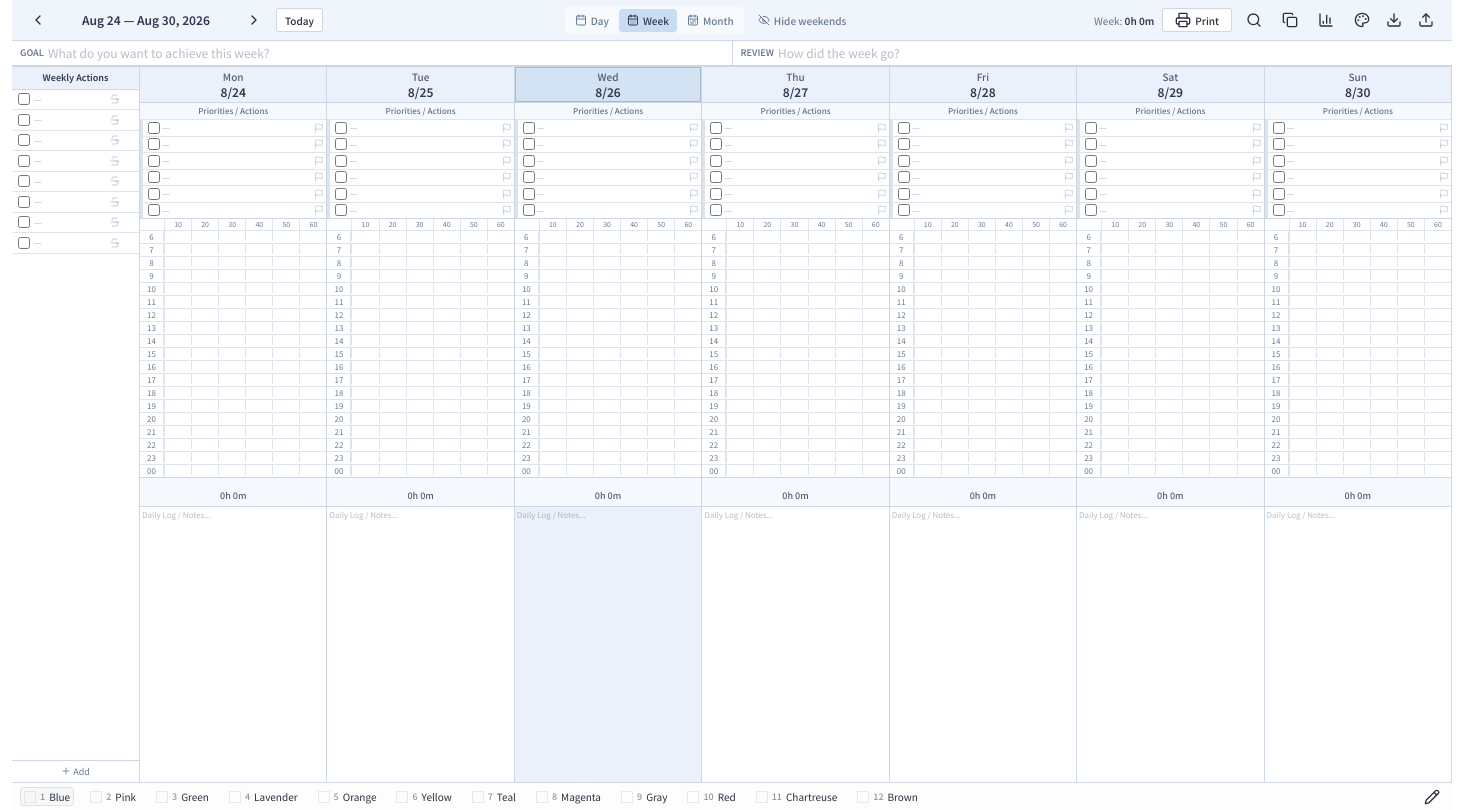
Test: getting back to today › returns to the current month in the month view
Click the button "Month": (710,20) [679, 8, 742, 32]
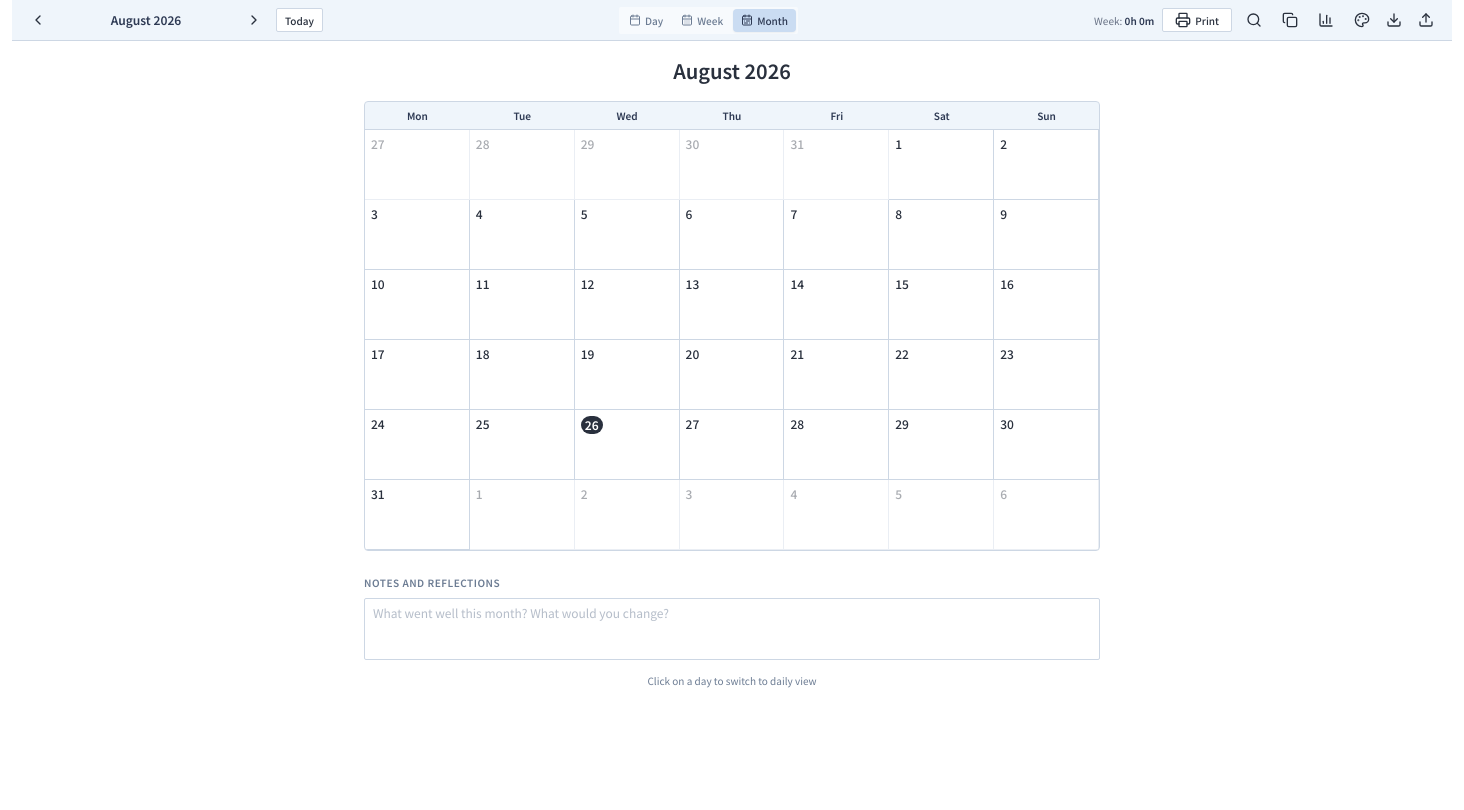
Click the button named "Previous month": (38,20) [24, 6, 52, 34]
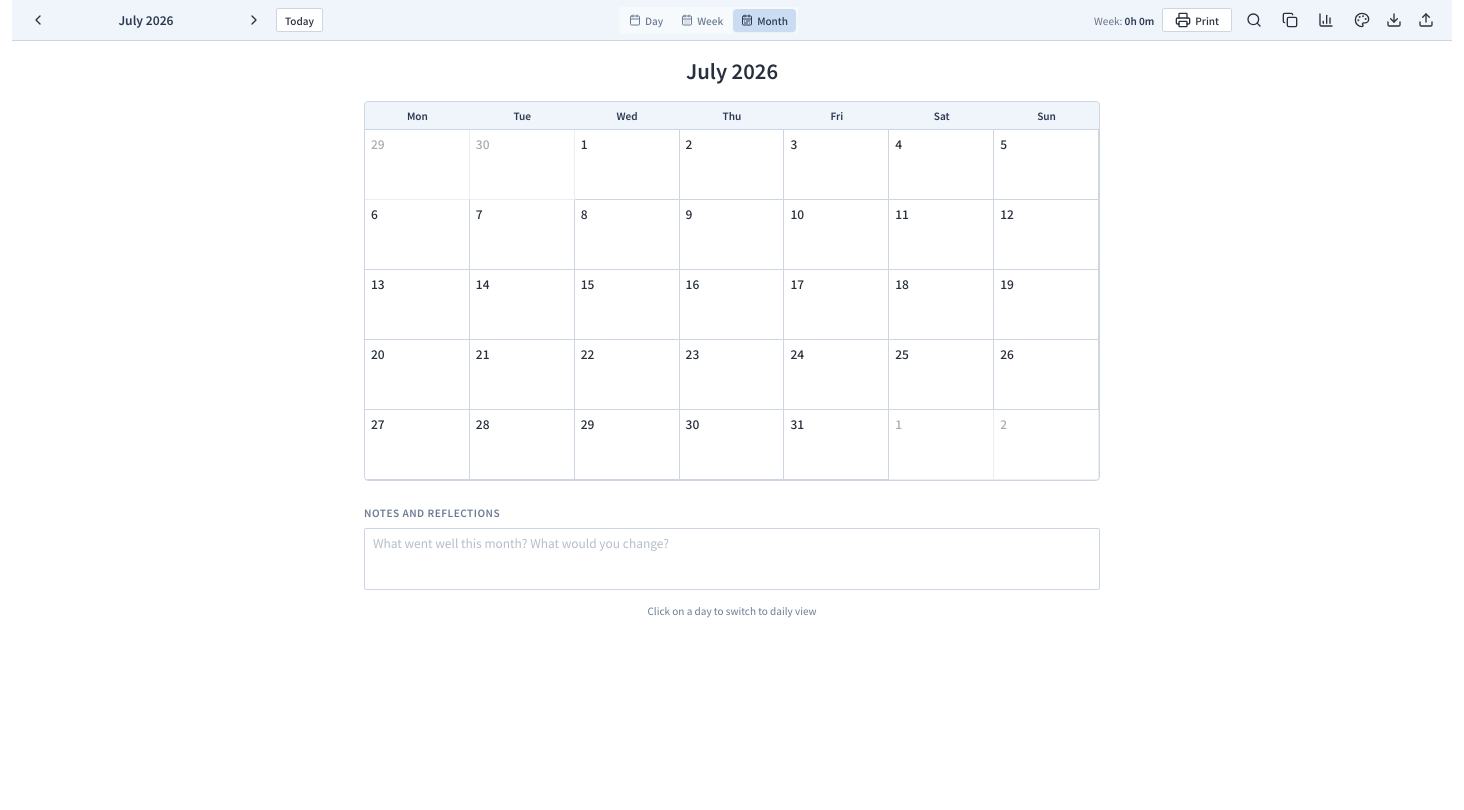
Click the button named "Previous month": (38,20) [24, 6, 52, 34]
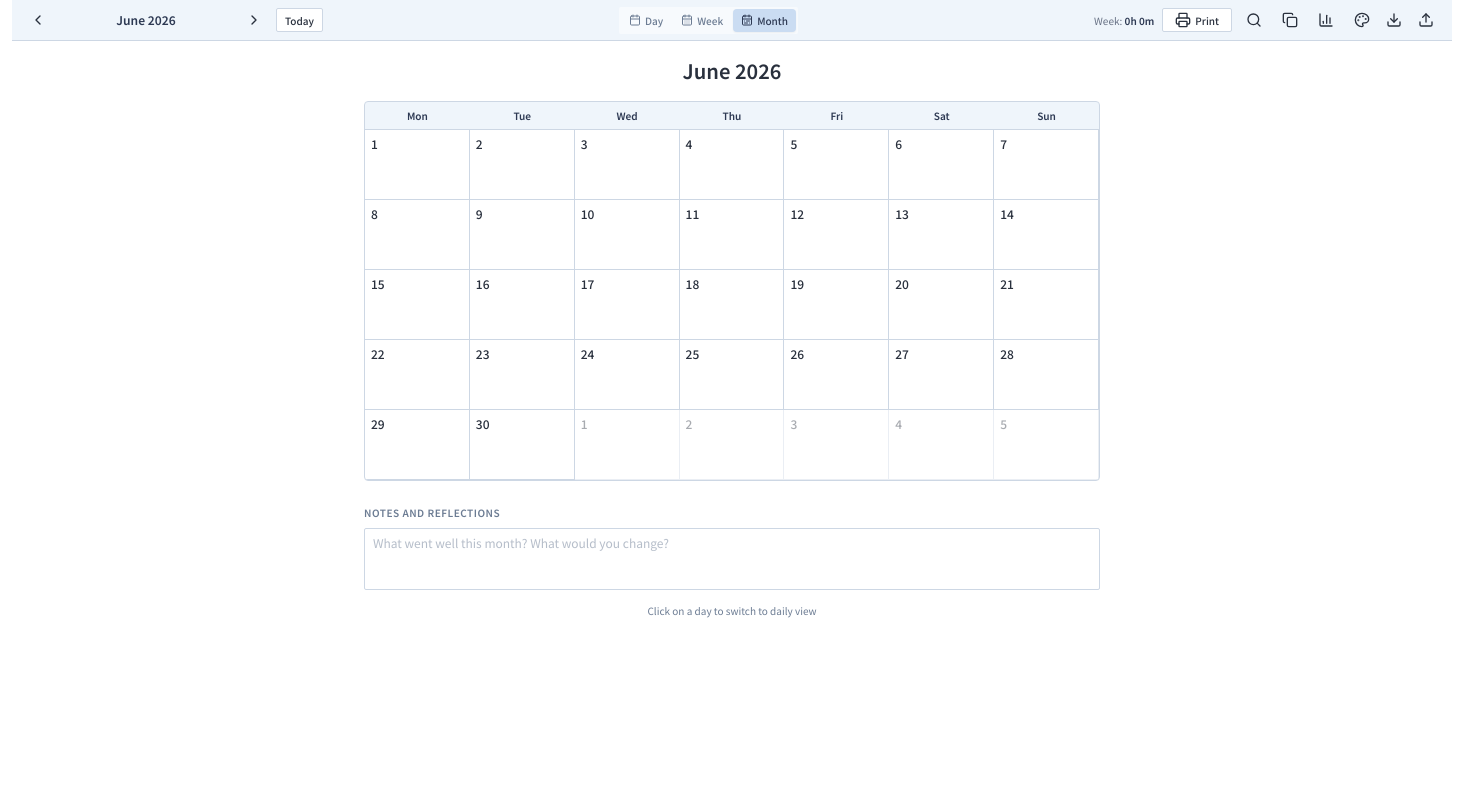
Click the button named "Previous month": (38,20) [24, 6, 52, 34]
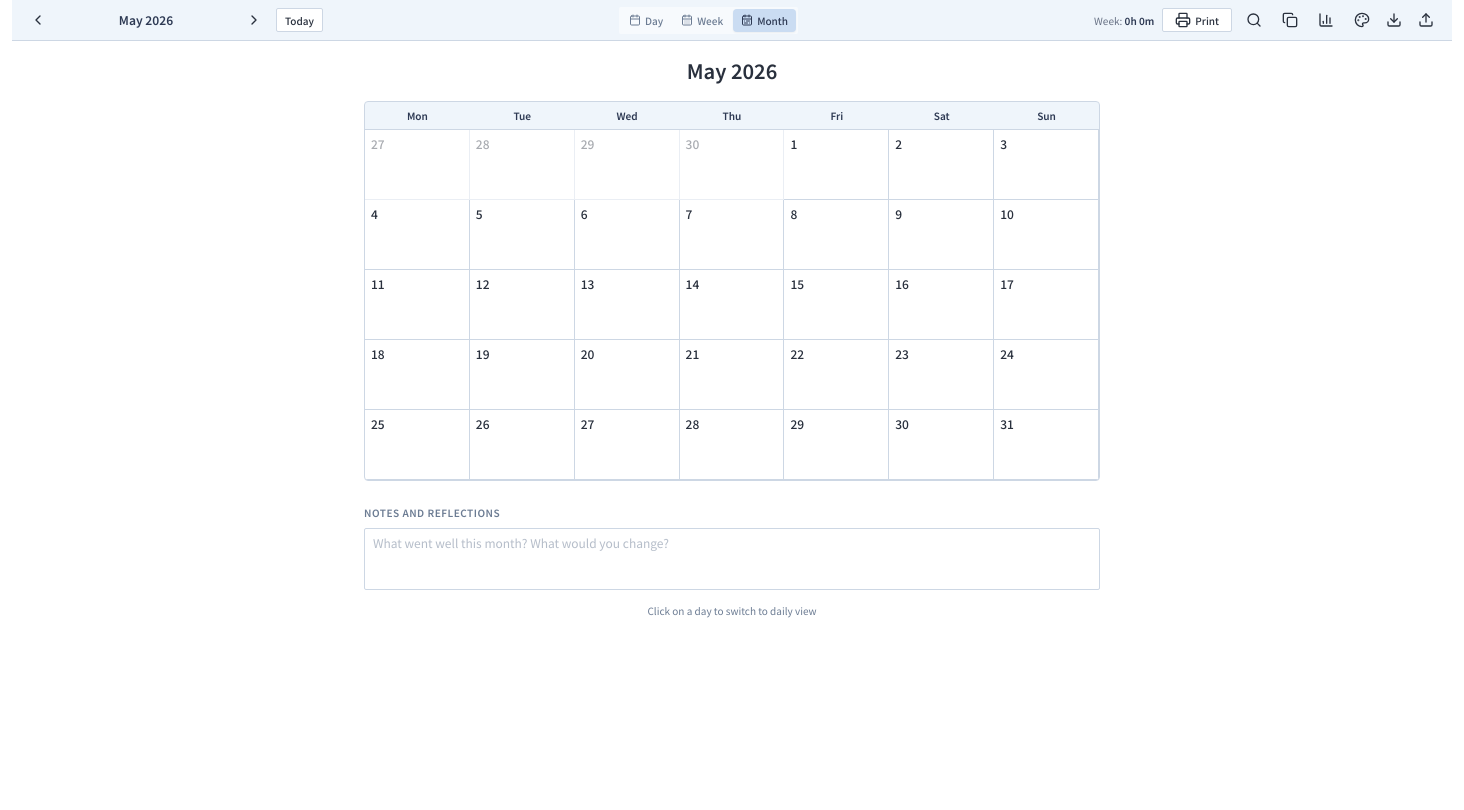
Click the button named "Previous month": (38,20) [24, 6, 52, 34]
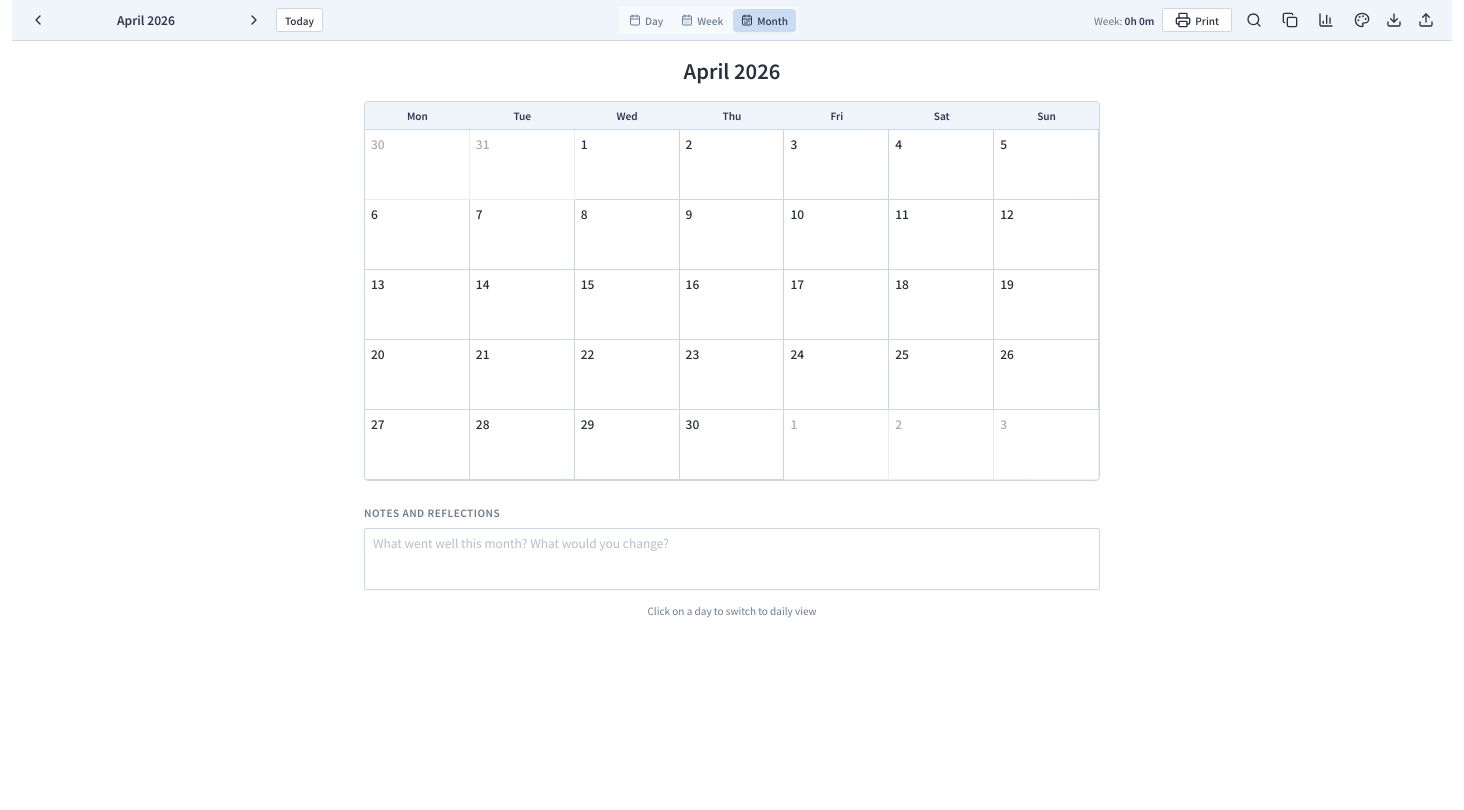
Click the button "Today": (299,20) [276, 8, 323, 32]
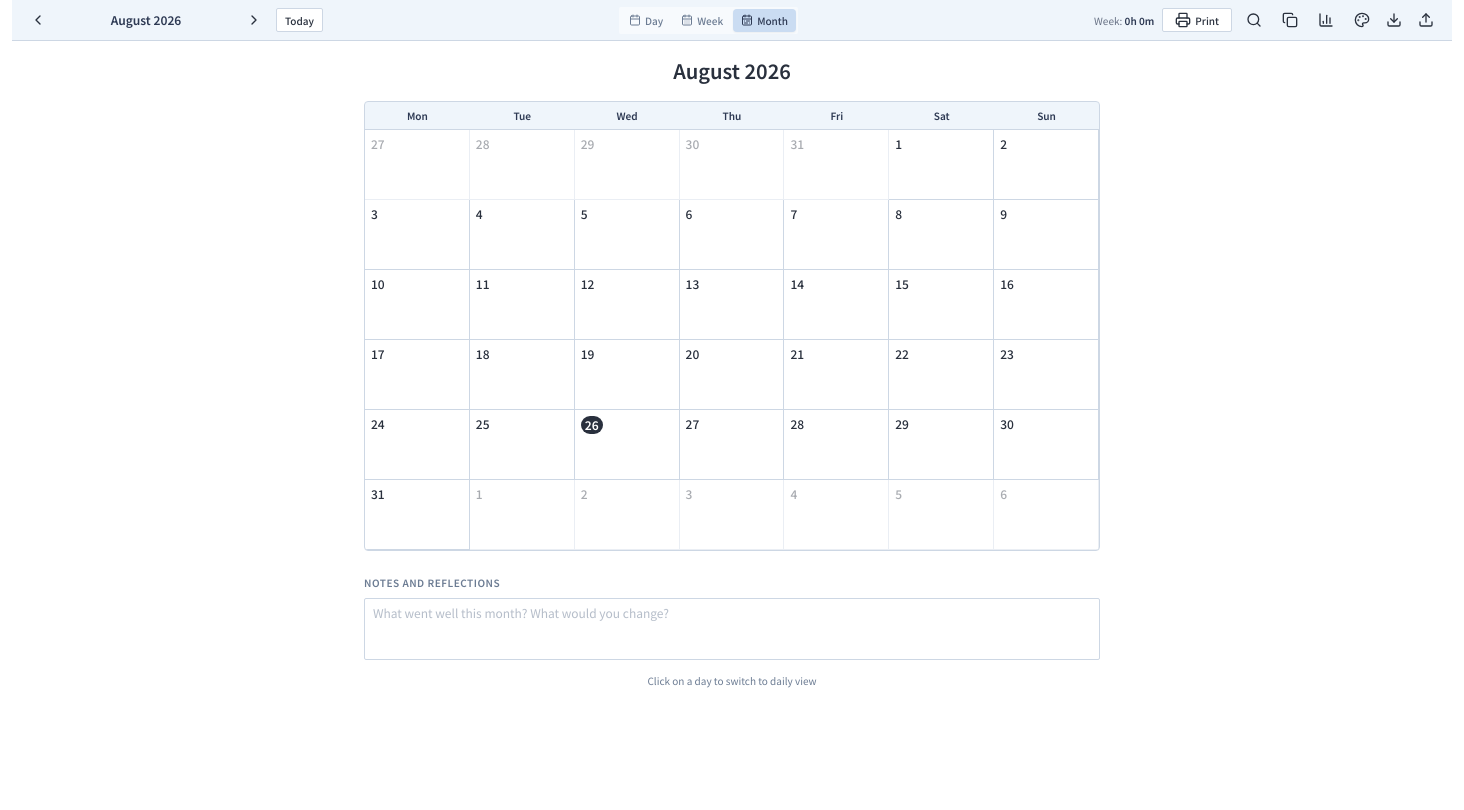
expect the text with class "font-semibold" reads "August 2026": met, box [111, 11, 181, 28]
